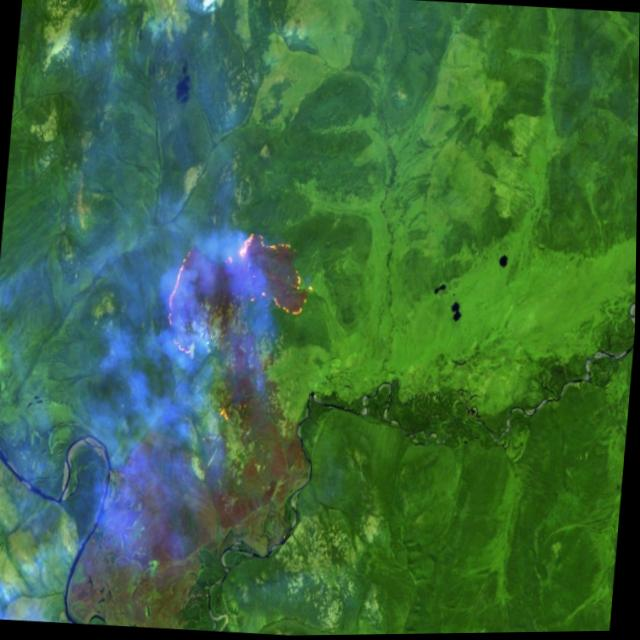fire: (158, 213, 323, 371), (211, 394, 239, 430)
